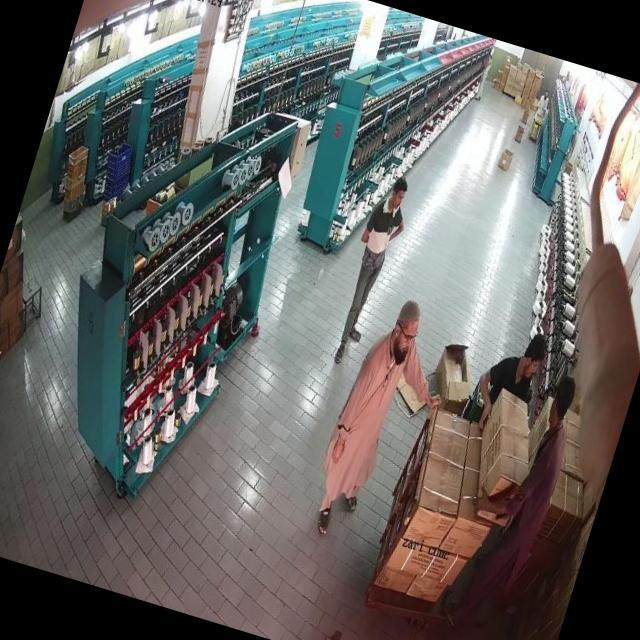person: (302, 286, 440, 556), (330, 168, 412, 368), (471, 318, 554, 452), (526, 86, 554, 150)
